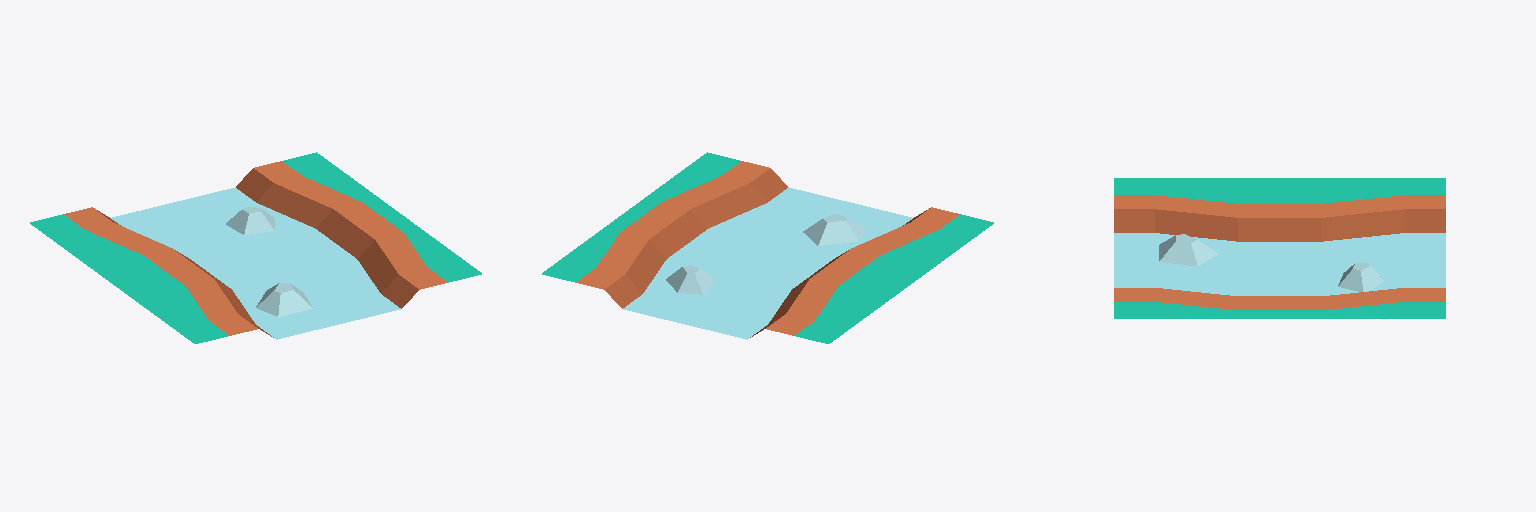
The model's file is ground_riverRocks.obj.
3 views of the same model, side by side, from view 1: azimuth 30°, elevation 25°; view 2: azimuth 150°, elevation 25°; view 3: azimuth 270°, elevation 25° (orthographic).
Parts seen in each view (by area): view 1: ground_riverRocks; view 2: ground_riverRocks; view 3: ground_riverRocks.
Boxes of the visible parts, x1,y1,x2,y2 form: ground_riverRocks: [30, 152, 481, 343]; ground_riverRocks: [542, 152, 993, 343]; ground_riverRocks: [1114, 178, 1445, 318].
Bounding box in the file's own units: 1 × 0.05 × 1.